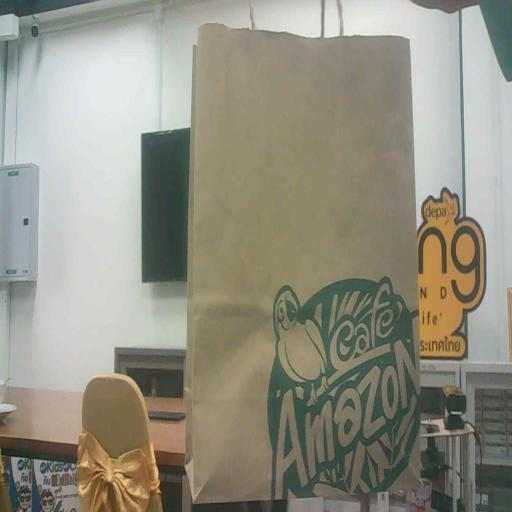bag: (179, 7, 431, 512)
